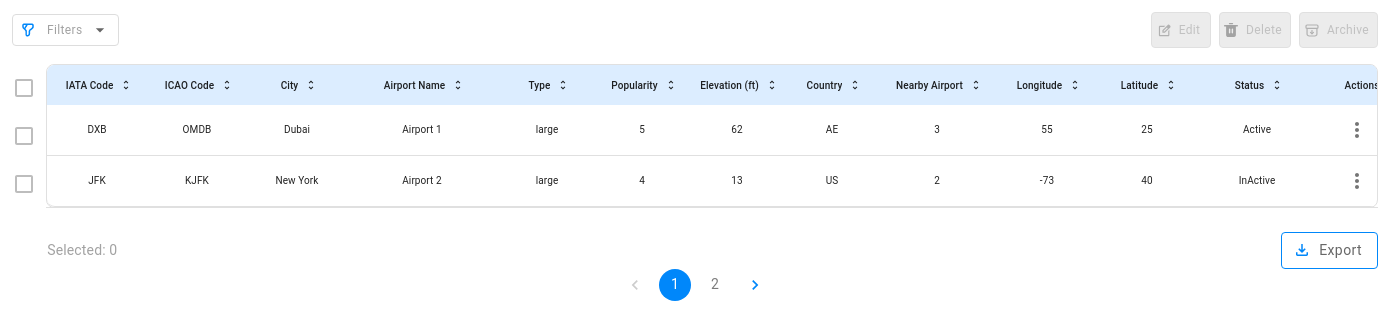
it: AirportTableData Component › selects and deselects all checkboxes
Click the 1st checkbox at (24, 88), box [12,76,36,100]
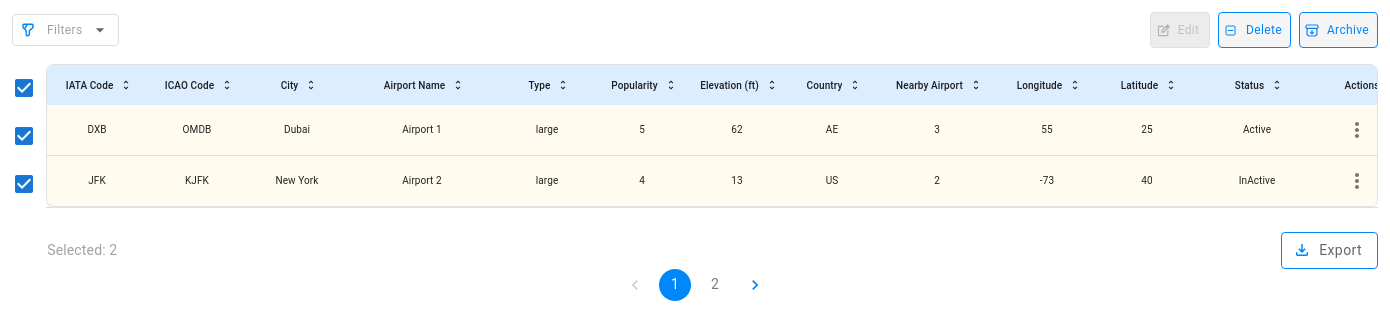
Check: the text "Selected: 2" is shown, box [47,240,117,260]
Click the 1st checkbox at (24, 88), box [12,76,36,100]
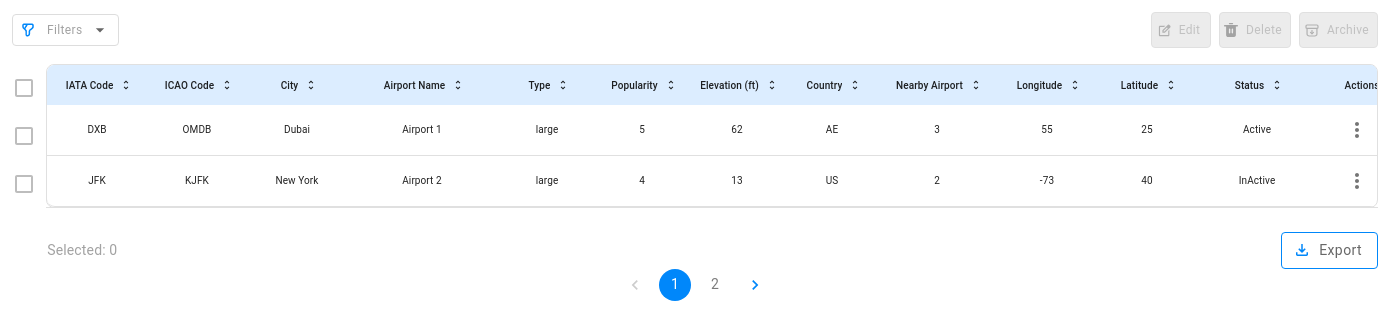
Check: the text "Selected: 0" is shown, box [47,240,117,260]
